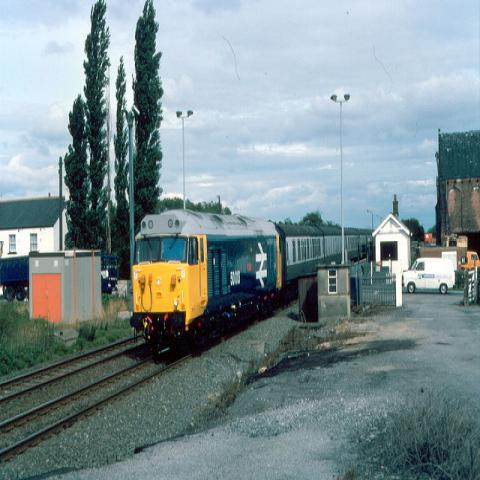car: (461, 250, 479, 270), (101, 271, 112, 293)
truck: (403, 257, 457, 296), (415, 246, 480, 270)
